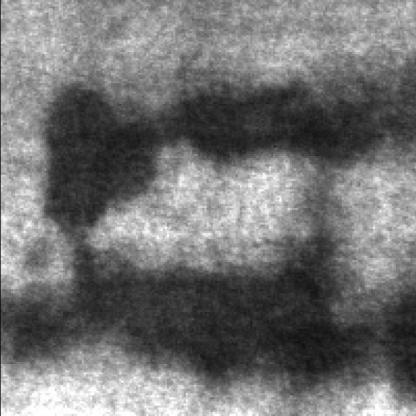patches: (4, 245, 416, 393), (43, 64, 416, 224)
